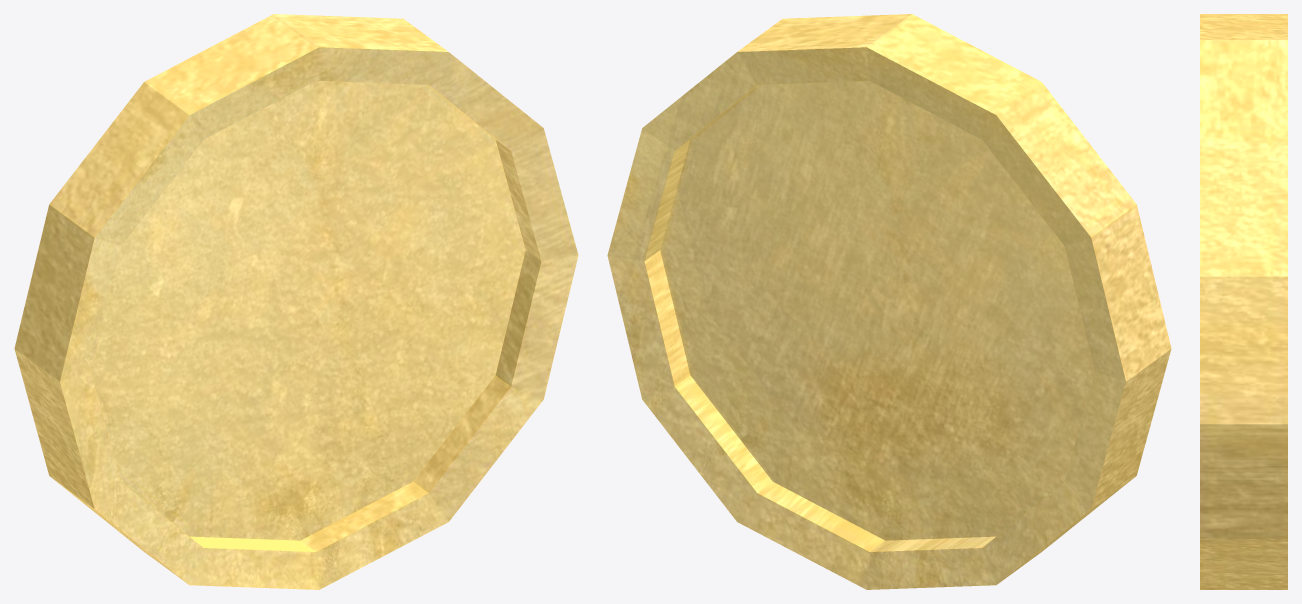
File: coin.glb
The picture shows the model from 3 angles, left to right: view 1: azimuth 30°, elevation 25°; view 2: azimuth 150°, elevation 25°; view 3: azimuth 270°, elevation 25°; orthographic projection. The views are drawn at different scales.
Parts seen in each view (by area): view 1: coin; view 2: coin; view 3: coin.
Part boxes in pixels (x1=…): coin: x1=14, y1=14, x2=578, y2=589; coin: x1=607, y1=14, x2=1171, y2=589; coin: x1=1200, y1=14, x2=1287, y2=589.
Size of the model in its own units: 0.312 by 0.312 by 0.0474.
1 material, 1 textured.
